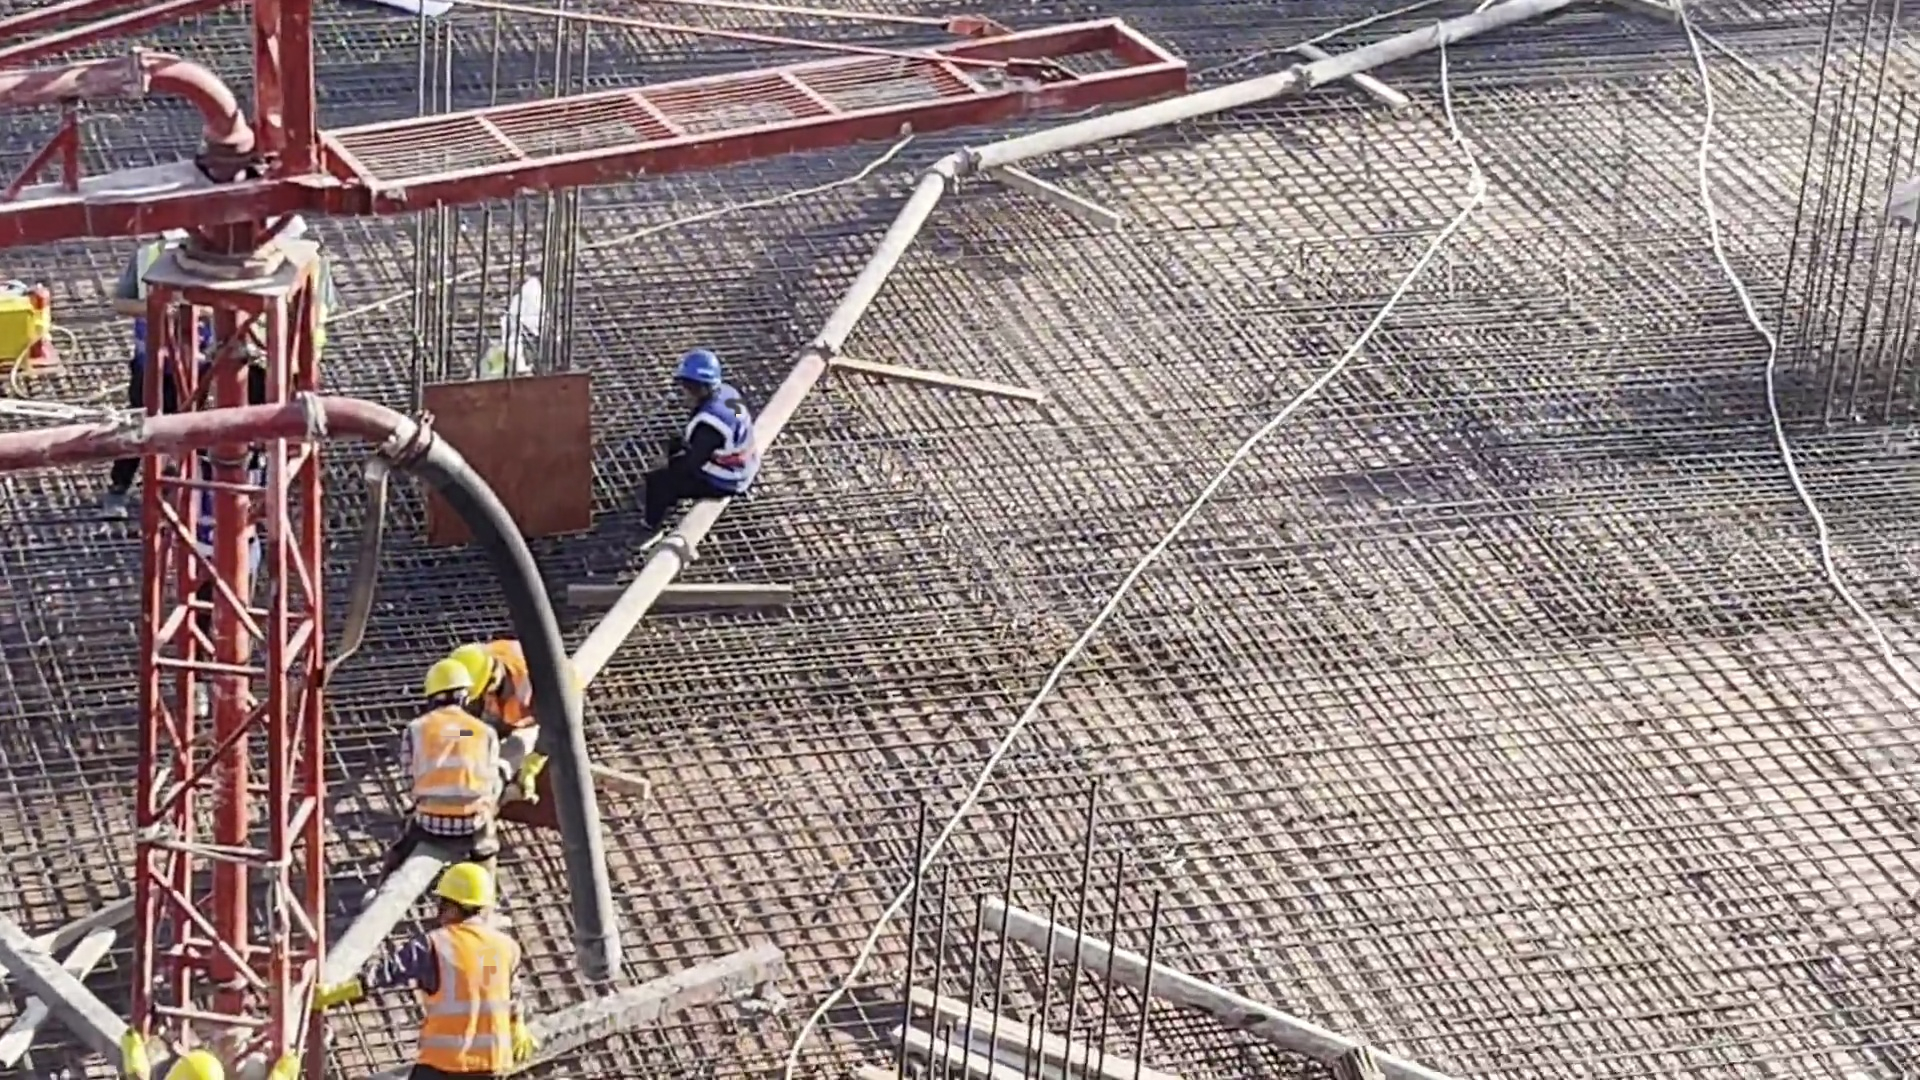helmet: (440, 863, 499, 909), (460, 640, 496, 692), (420, 661, 476, 693), (156, 1053, 219, 1080), (683, 351, 725, 387)
person: (107, 222, 240, 519), (403, 867, 537, 1080), (391, 667, 523, 864), (638, 354, 757, 554), (443, 628, 545, 739)
vest: (425, 927, 511, 1069), (409, 716, 495, 820), (680, 404, 755, 487), (127, 255, 175, 341)
